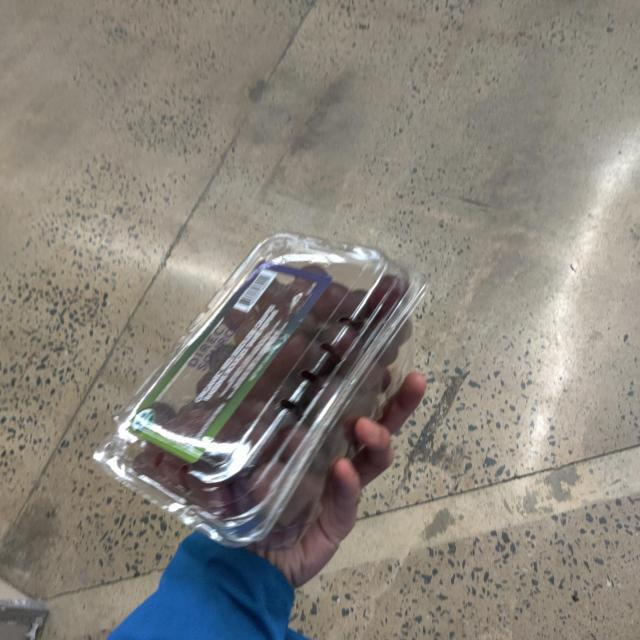Grapes: (109, 236, 430, 550)
